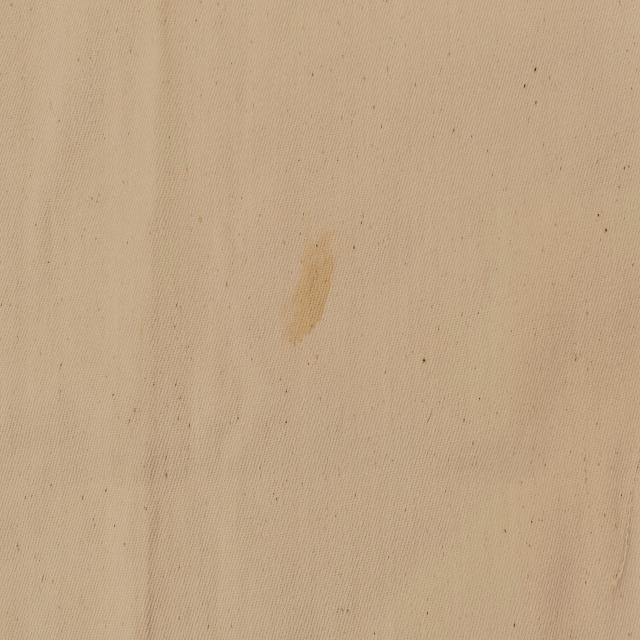taaaches: (280, 224, 337, 361)
